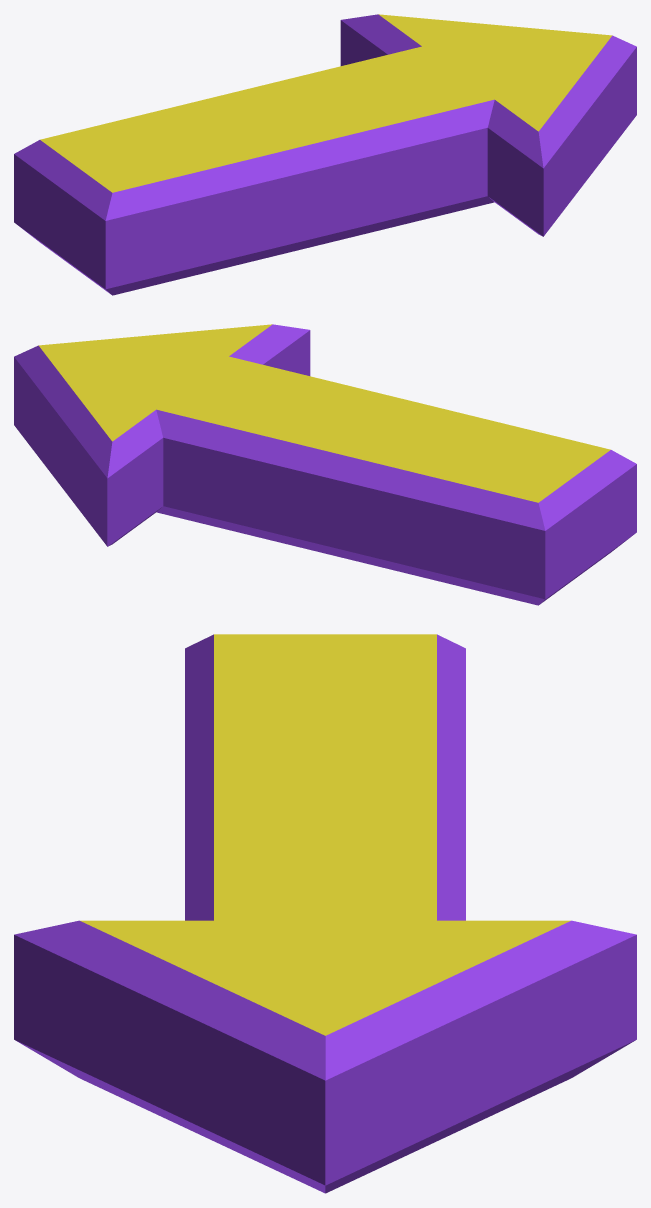
The model's file is Arrow.fbx.
3 renders of one model, top to bottom at view 1: azimuth 30°, elevation 25°; view 2: azimuth 150°, elevation 25°; view 3: azimuth 270°, elevation 25°, orthographic. The views are drawn at different scales.
Parts seen in each view (by area): view 1: Cube; view 2: Cube; view 3: Cube.
Boxes of the visible parts, x1=… form: Cube: x1=14, y1=14, x2=636, y2=295; Cube: x1=14, y1=324, x2=636, y2=605; Cube: x1=14, y1=634, x2=636, y2=1193.
Size of the model in its own units: 728 by 124 by 443.
